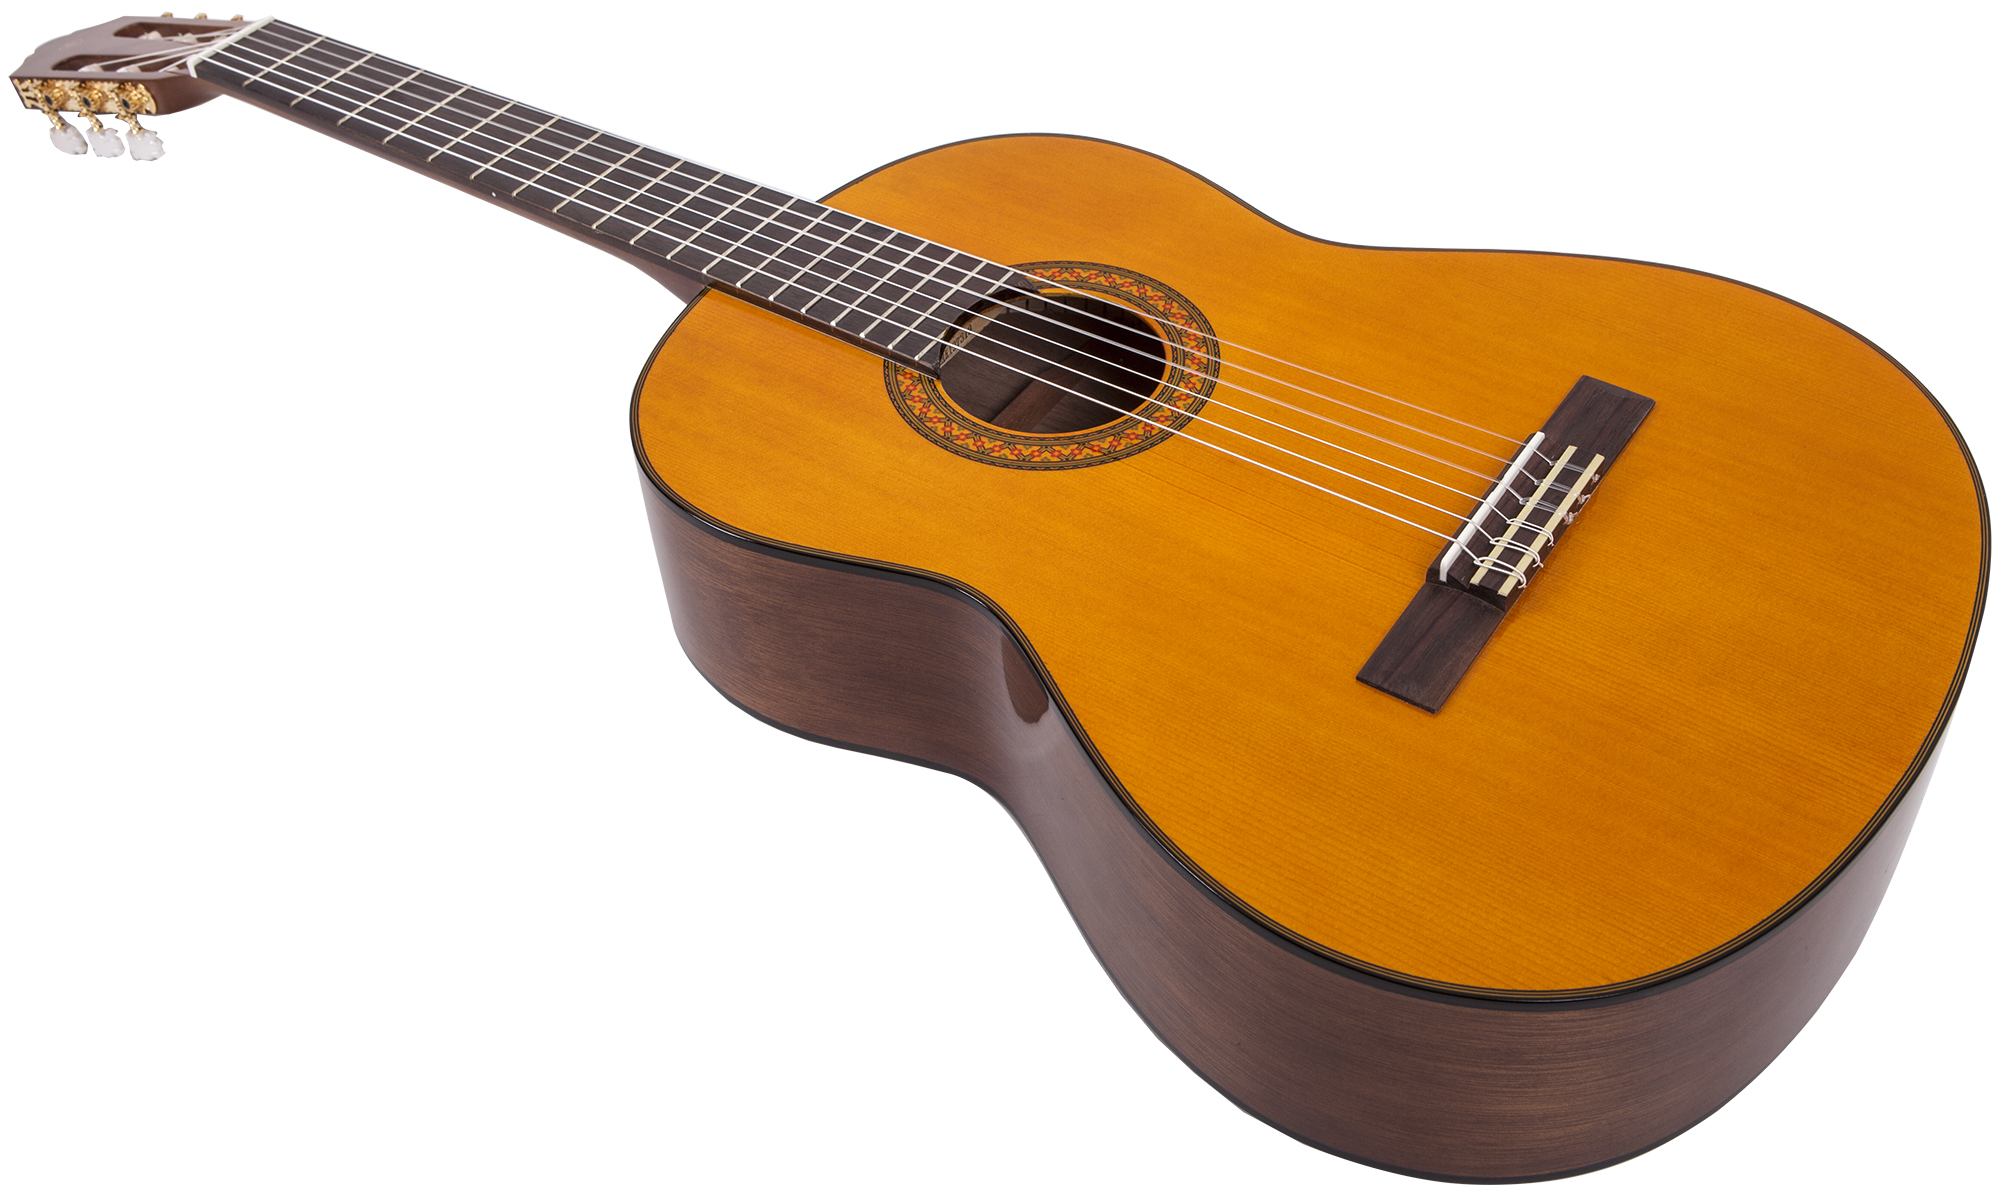0 classic: (1, 1, 1982, 1183)
